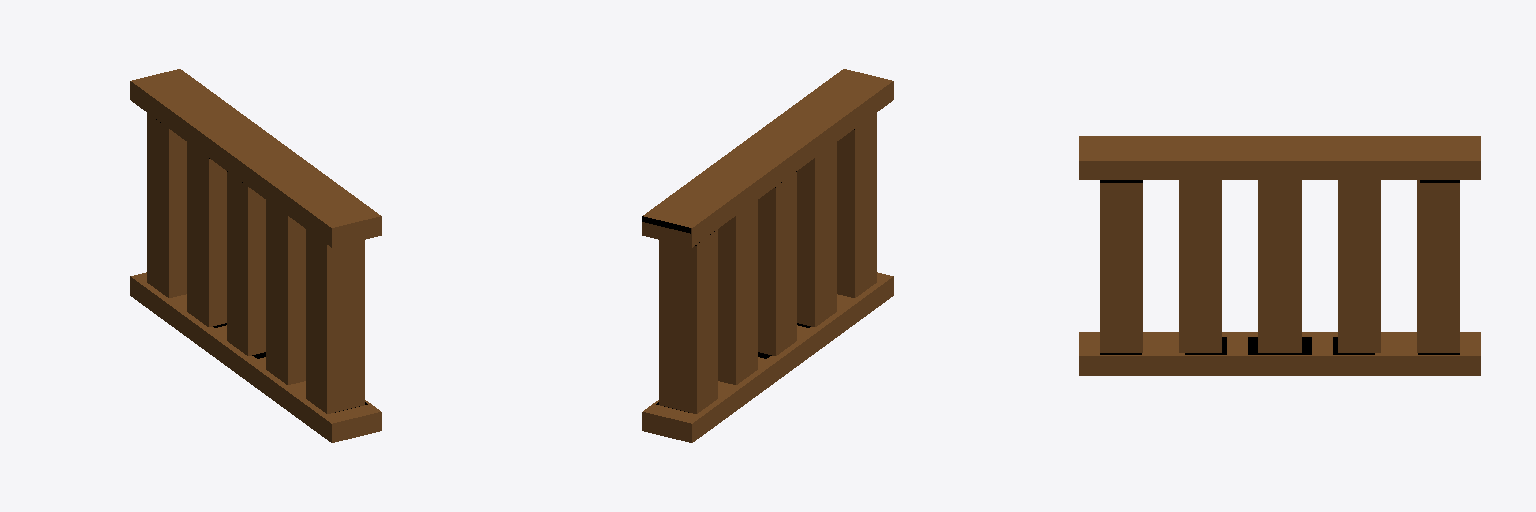
3 renders of one model, left to right at view 1: azimuth 30°, elevation 25°; view 2: azimuth 150°, elevation 25°; view 3: azimuth 270°, elevation 25°, orthographic.
Visible parts, largest first — view 1: Barrier_Wooden; view 2: Barrier_Wooden; view 3: Barrier_Wooden.
Boxes of the visible parts, x1=… form: Barrier_Wooden: x1=130, y1=69, x2=381, y2=442; Barrier_Wooden: x1=642, y1=69, x2=893, y2=442; Barrier_Wooden: x1=1079, y1=136, x2=1480, y2=375.
Bounding box in the file's own units: 0.8 × 3.3 × 5.6.
Materials: 1 (1 with a texture image).